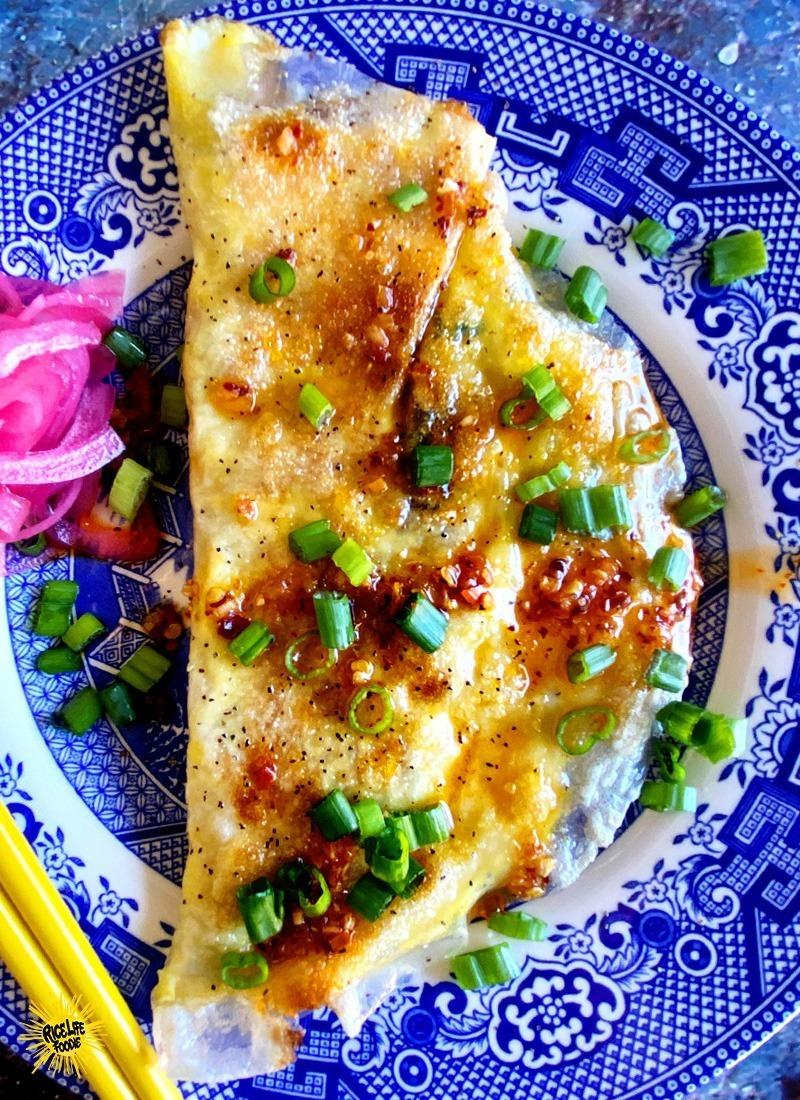omelette: (121, 64, 643, 1064)
